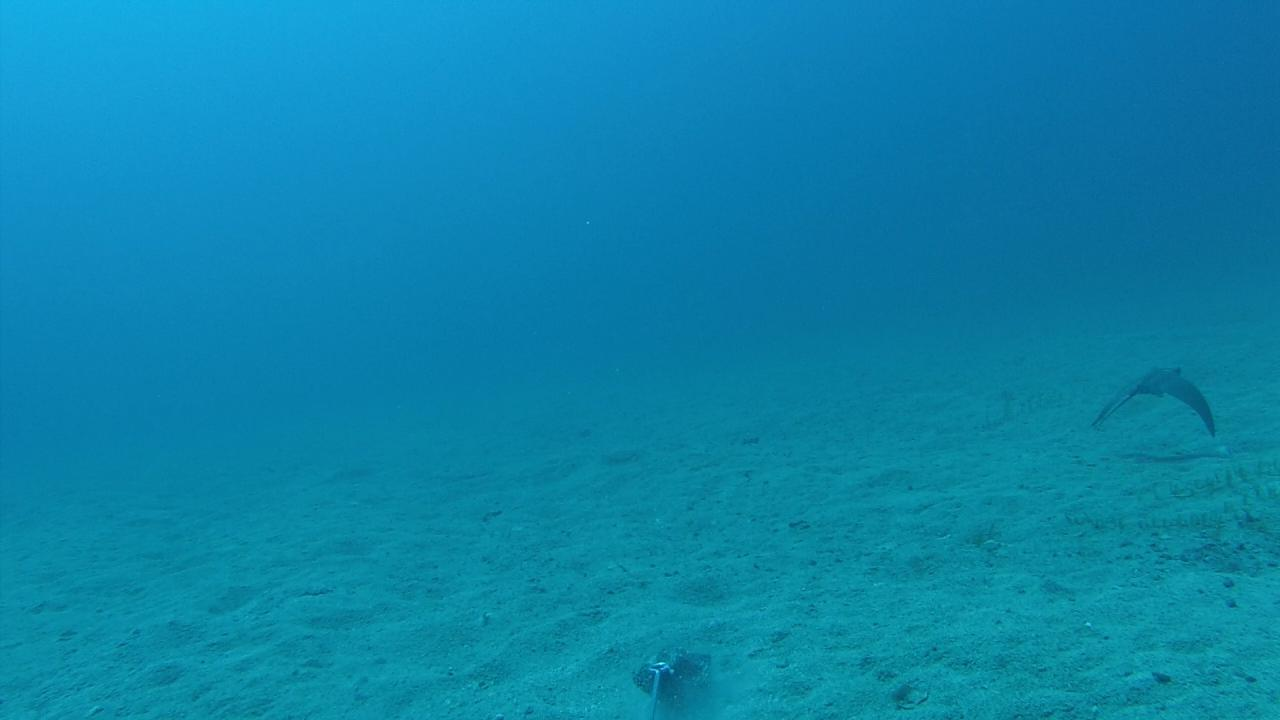dasyatis: (1090, 364, 1218, 438)
